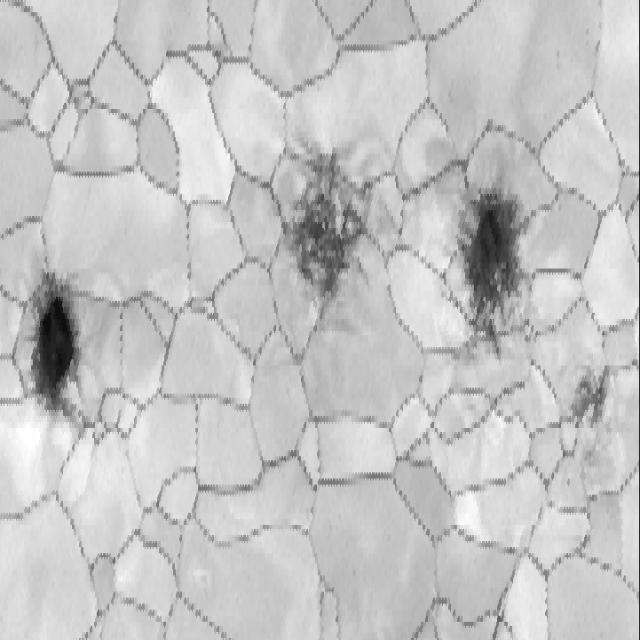good_void: (280, 133, 388, 340), (442, 154, 527, 350), (24, 249, 88, 449), (563, 353, 619, 441), (564, 474, 572, 492)
